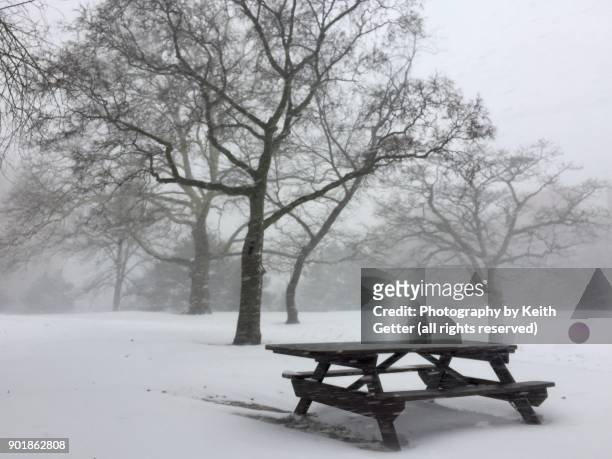obstacle: (265, 342, 554, 450)
